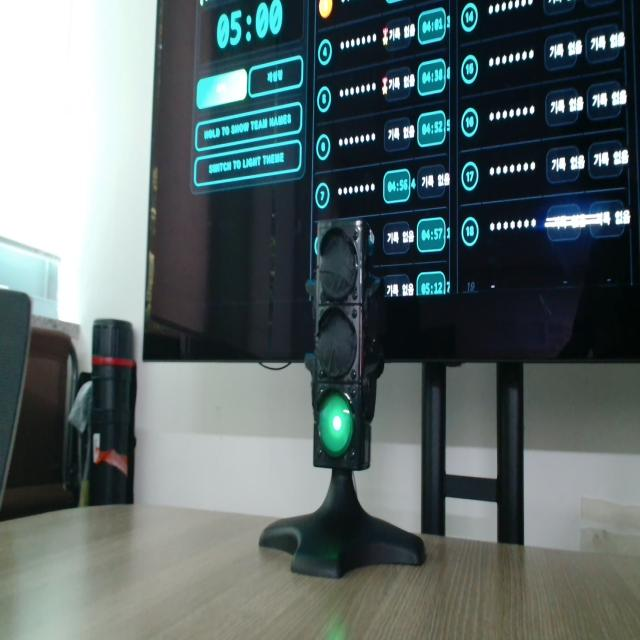green_light: (319, 392, 353, 457)
